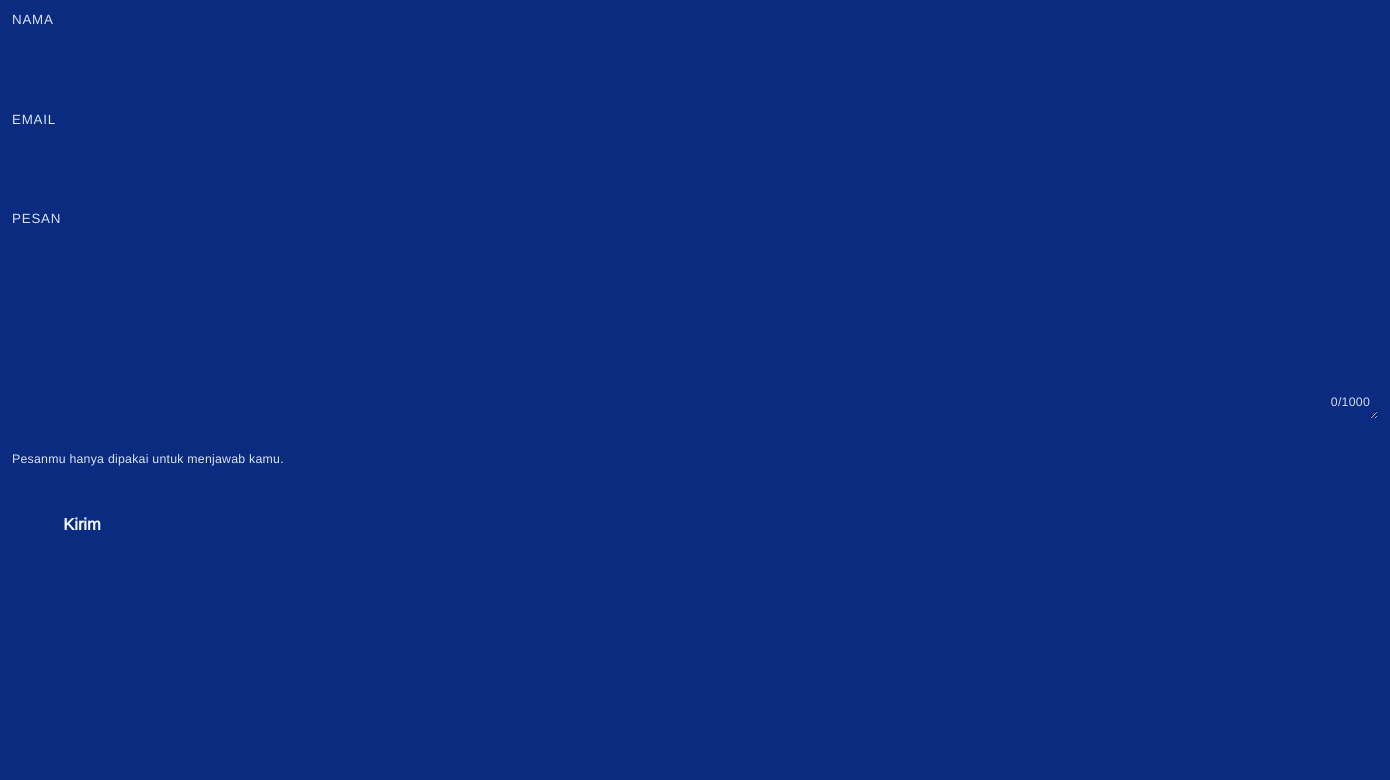
Test: ContactForm › kirim kosong: tidak mengirim, ringkasan galat menerima fokus
The image size is (1390, 780).
Click the button "Kirim" at (82, 524), box x1=12 y1=500 x2=152 y2=548
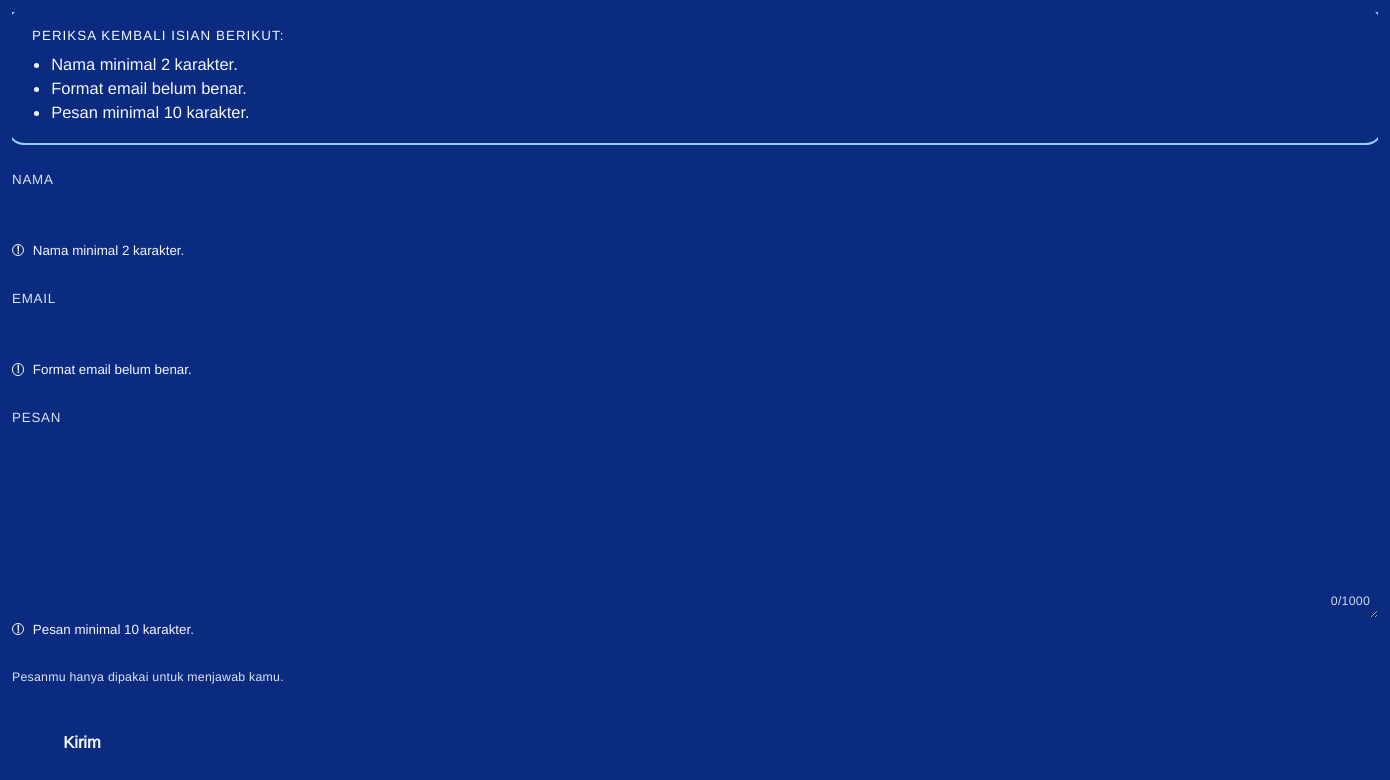
Now the text "Format email belum benar." is shown, box x1=51 y1=78 x2=247 y2=98
